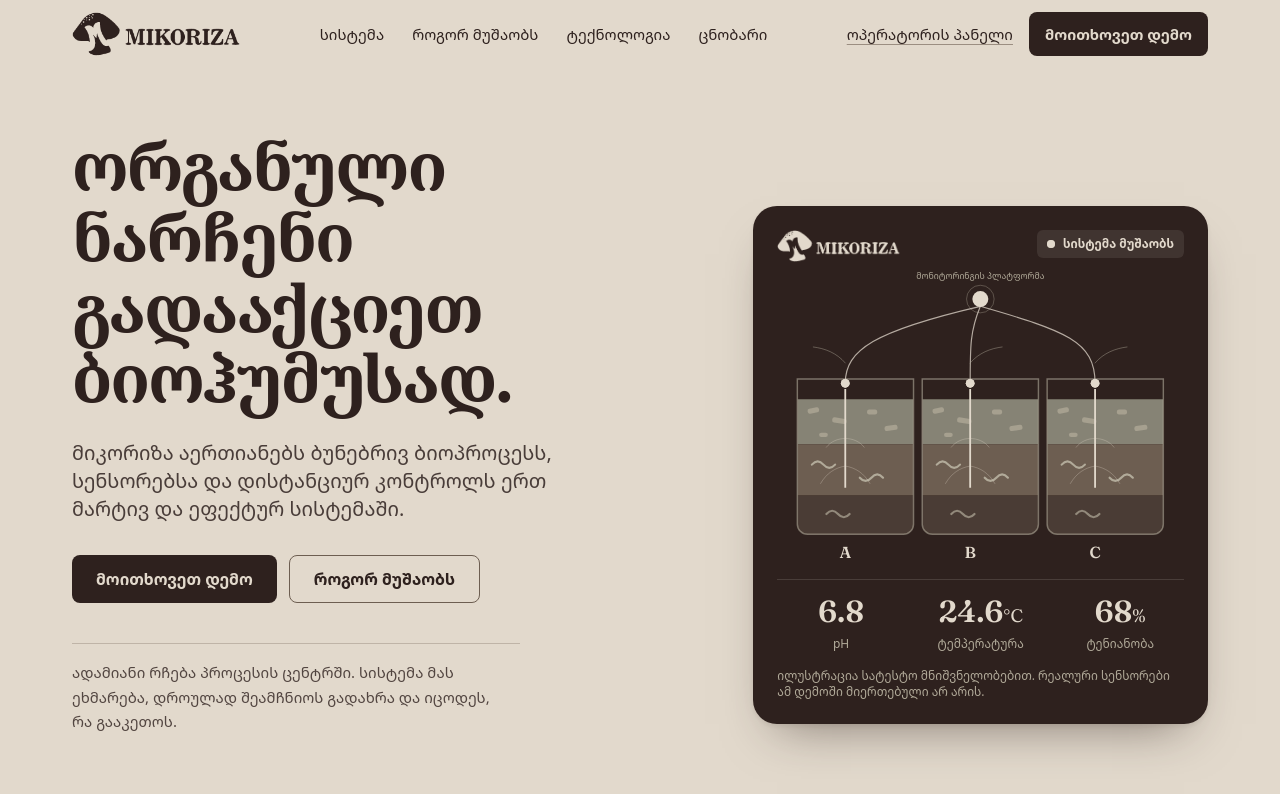
admin dashboard › opens the dashboard from the landing page link
This screenshot has width=1280, height=794.
Click the link "ოპერატორის პანელი": click(930, 34) top-left (847, 22), bottom-right (1013, 46)
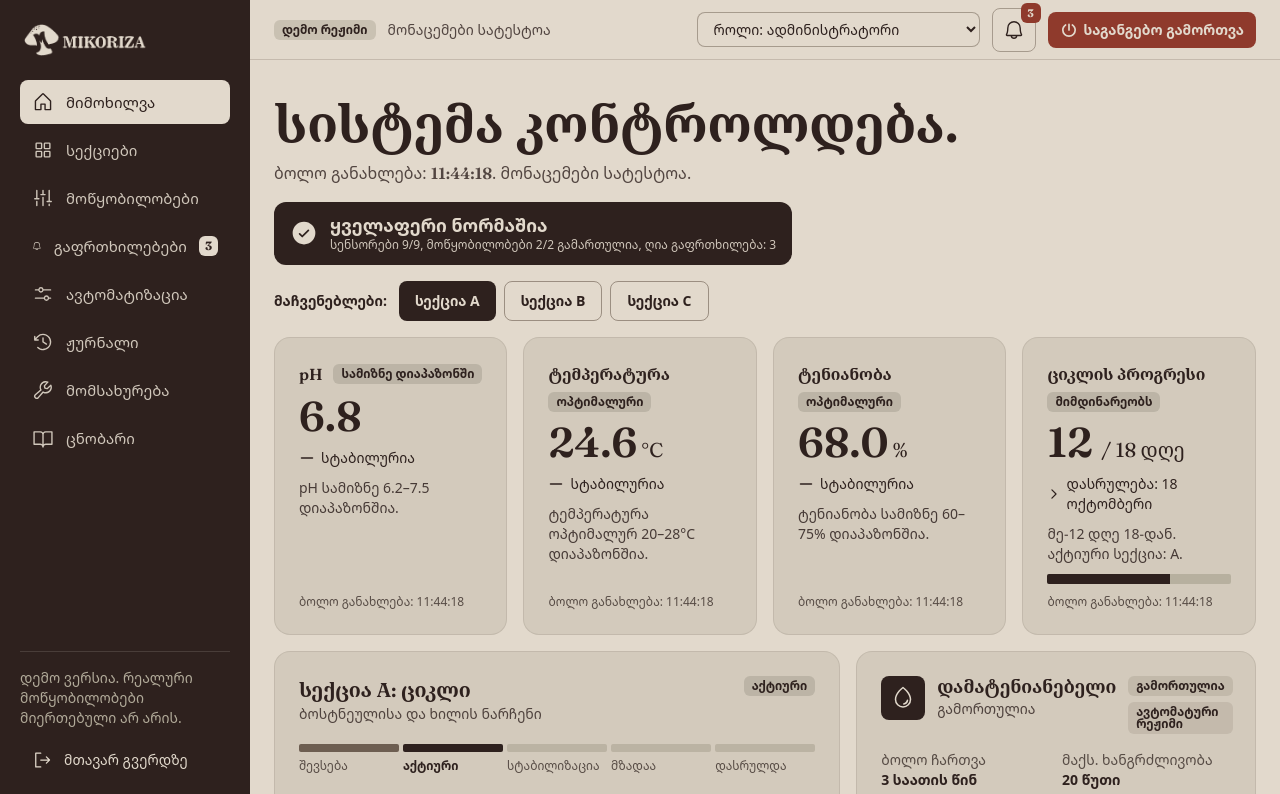
Now the heading "სისტემა კონტროლდება." is shown, box top-left (274, 92), bottom-right (959, 156)
